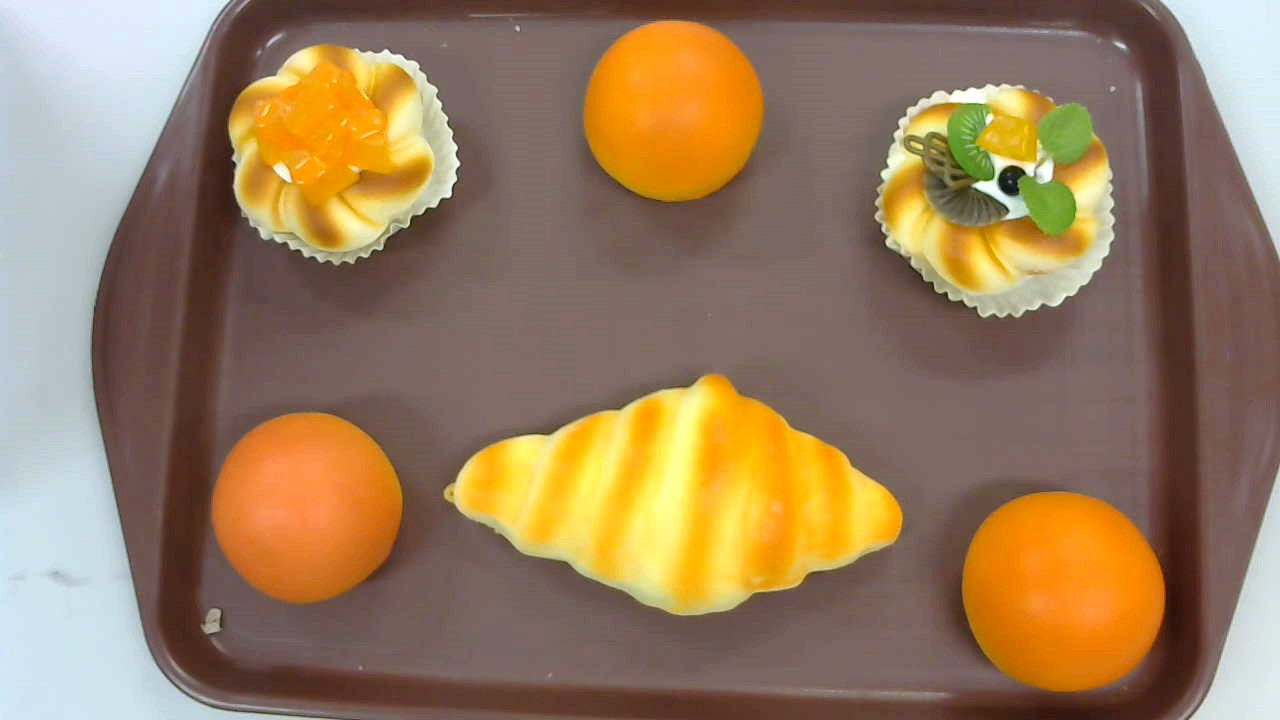bun: (961, 490, 1165, 688), (210, 411, 402, 603), (583, 19, 765, 203)
croissant: (445, 374, 903, 615)
fruit tart: (874, 82, 1116, 319)
mango tart: (228, 42, 461, 266)
